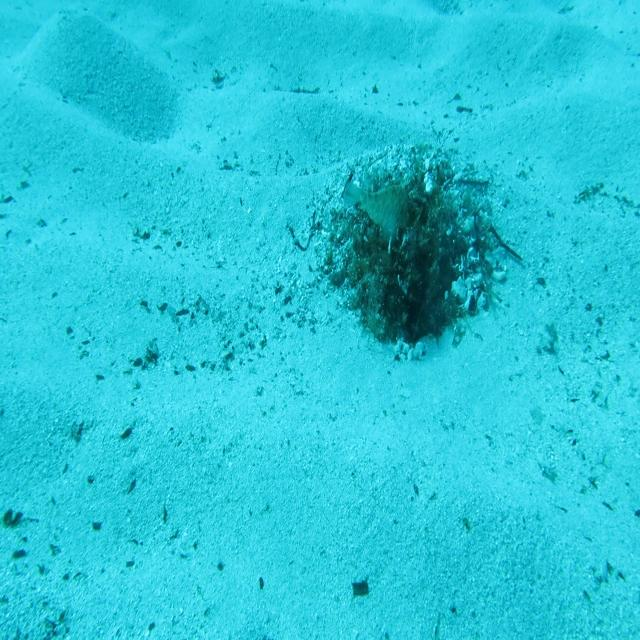NIP_CORE: (342, 172, 411, 242)
core_nest: (391, 181, 446, 239)
nest: (306, 136, 510, 368)
